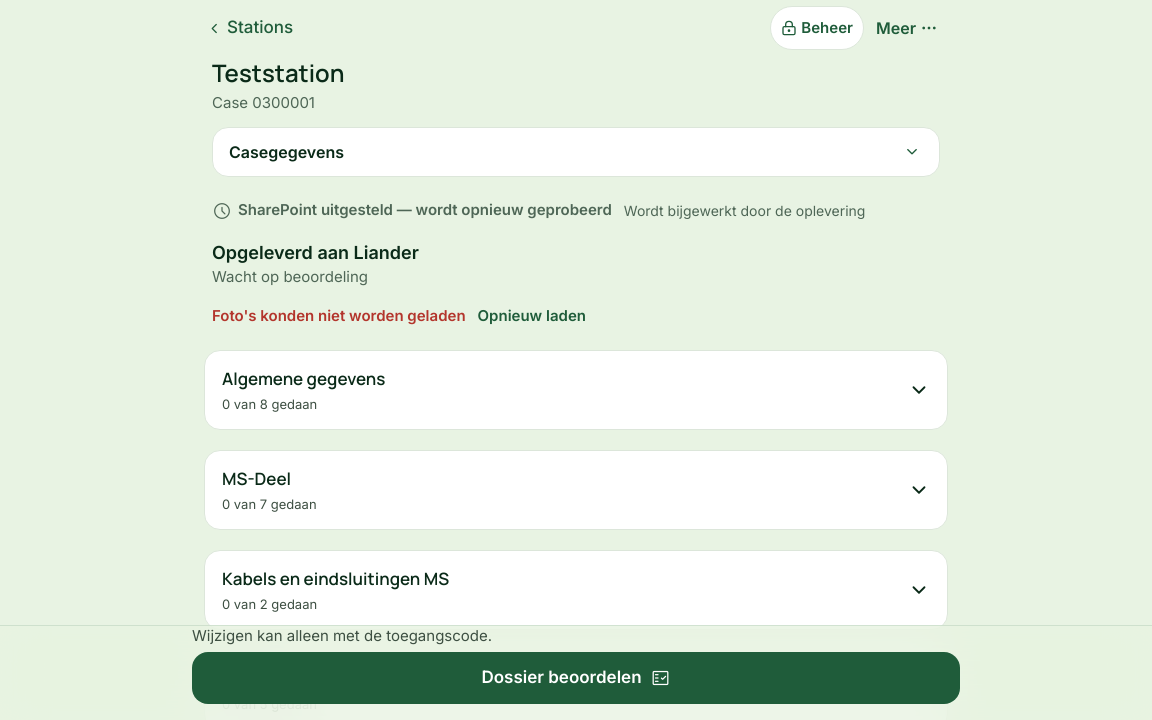
Scenario: StationDetail: bekende dossierstatus zonder onbekend fotoaantal › opgeleverd bij foto-leesfout: status blijft, zichtbare leesfout met opnieuw laden
Expected: the text "Foto's konden niet worden geladen" is shown, [212,305,466,328]
Expected: the text "Opgeleverd aan Liander" is shown, [212,242,419,262]
Step 1. Click the button "Opnieuw laden" → (532, 316), box [478,294,586,338]
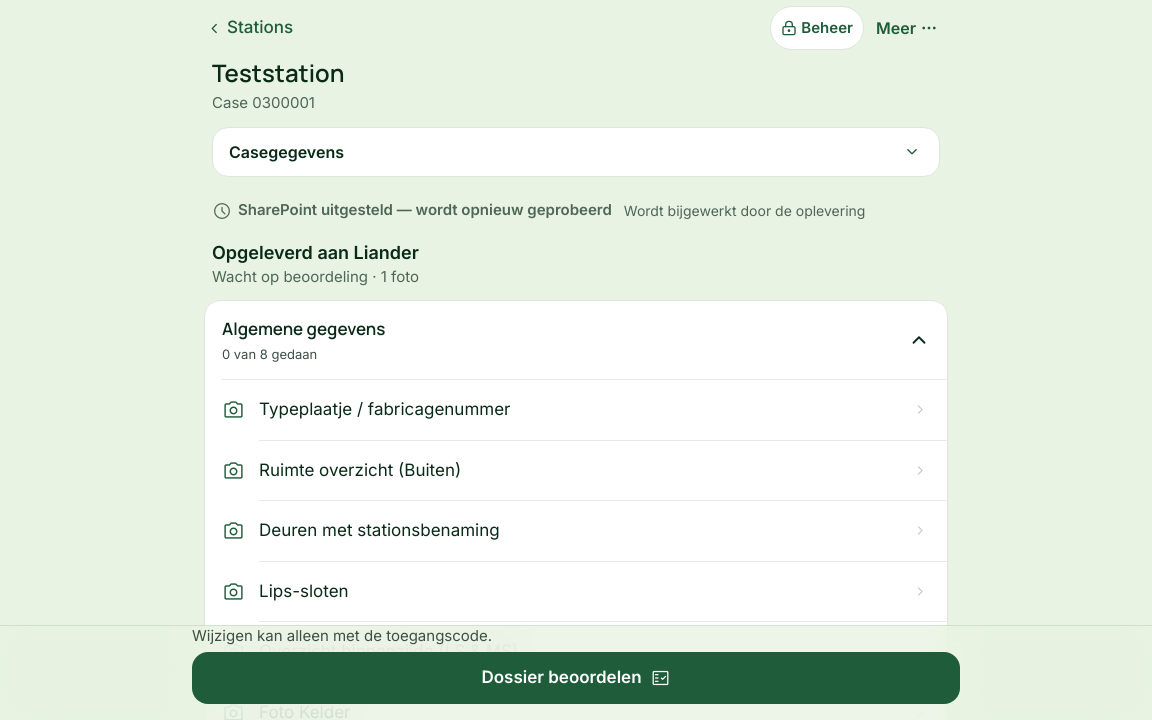
Now the text "Foto's konden niet worden geladen" is gone
